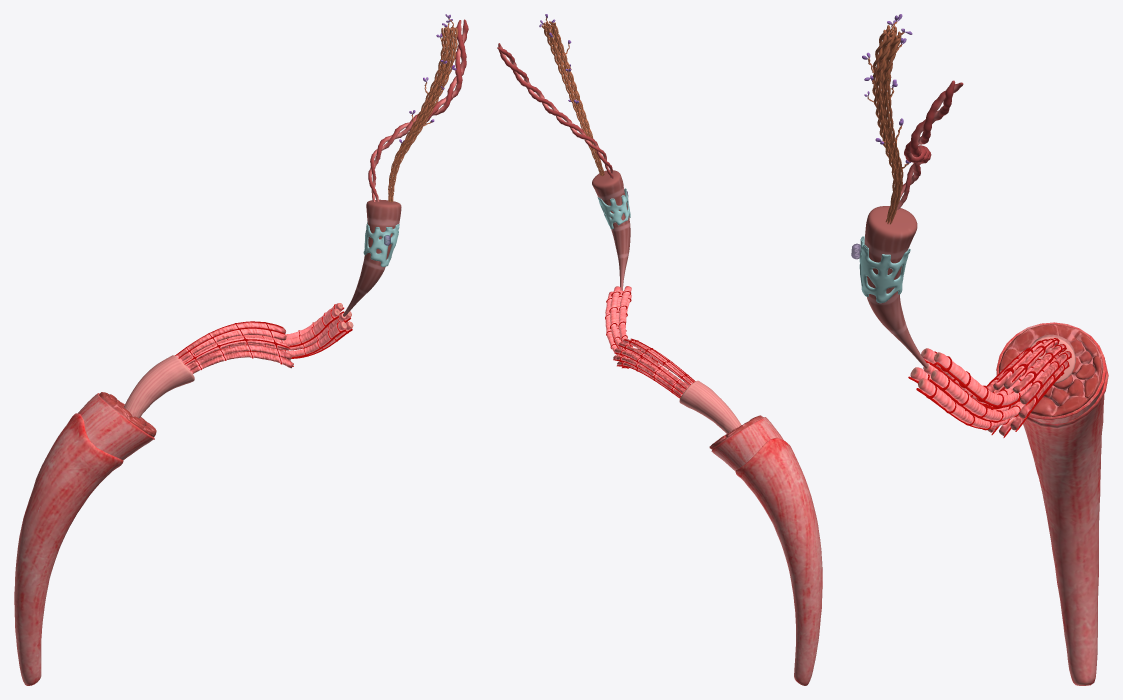
File: skeletal-muscle.glb
3 views of the same model, side by side, from view 1: azimuth 30°, elevation 25°; view 2: azimuth 150°, elevation 25°; view 3: azimuth 270°, elevation 25° (orthographic). The views are drawn at different scales.
Parts seen in each view (by area): view 1: Muscle_Muscle_M_0, Muscle_fiber_Muscle_fiber_M_0, Epimysium_Epimysium_M_0, Muscle_fibers_Muscle_fibers_M_0, Myosin_Myosin_M_0, Perimysium_Perimysium_M_0, Myofibril_Myofibril_M_0, Actin_Actin_M_0, Sarcoplasmic_reticulm_Sarcoplasmic_reticulm_M_0; view 2: Muscle_Muscle_M_0, Muscle_fiber_Muscle_fiber_M_0, Epimysium_Epimysium_M_0, Myofibril_Myofibril_M_0, Myosin_Myosin_M_0, Perimysium_Perimysium_M_0, Muscle_fibers_Muscle_fibers_M_0, Actin_Actin_M_0, Sarcoplasmic_reticulm_Sarcoplasmic_reticulm_M_0; view 3: Muscle_Muscle_M_0, Muscle_fibers_Muscle_fibers_M_0, Fascicle_Fascicle_M_0, Myofibril_Myofibril_M_0, Myosin_Myosin_M_0, Muscle_fiber_Muscle_fiber_M_0, Actin_Actin_M_0, Sarcoplasmic_reticulm_Sarcoplasmic_reticulm_M_0, Epimysium_Epimysium_M_0, Perimysium_Perimysium_M_0.
Part boxes in pixels (x1,y1,x2,y2): Muscle_Muscle_M_0: (14, 413, 123, 685); Muscle_fiber_Muscle_fiber_M_0: (175, 321, 293, 373); Epimysium_Epimysium_M_0: (37, 393, 154, 512); Muscle_fibers_Muscle_fibers_M_0: (182, 303, 353, 366); Myosin_Myosin_M_0: (388, 14, 458, 202); Perimysium_Perimysium_M_0: (124, 355, 194, 418); Myofibril_Myofibril_M_0: (343, 199, 401, 316); Actin_Actin_M_0: (368, 19, 468, 201); Sarcoplasmic_reticulm_Sarcoplasmic_reticulm_M_0: (363, 221, 399, 266); Muscle_Muscle_M_0: (735, 437, 822, 685); Muscle_fiber_Muscle_fiber_M_0: (613, 338, 695, 398); Epimysium_Epimysium_M_0: (711, 417, 815, 516); Myofibril_Myofibril_M_0: (592, 170, 630, 290); Myosin_Myosin_M_0: (539, 14, 604, 176); Perimysium_Perimysium_M_0: (679, 380, 741, 433); Muscle_fibers_Muscle_fibers_M_0: (605, 286, 688, 390); Actin_Actin_M_0: (497, 43, 614, 178); Sarcoplasmic_reticulm_Sarcoplasmic_reticulm_M_0: (597, 188, 630, 229); Muscle_Muscle_M_0: (1023, 361, 1108, 685); Muscle_fibers_Muscle_fibers_M_0: (908, 346, 1059, 430); Fascicle_Fascicle_M_0: (999, 324, 1103, 416); Myofibril_Myofibril_M_0: (864, 206, 927, 368); Myosin_Myosin_M_0: (862, 14, 912, 224); Muscle_fiber_Muscle_fiber_M_0: (986, 338, 1071, 437); Actin_Actin_M_0: (893, 80, 963, 209); Sarcoplasmic_reticulm_Sarcoplasmic_reticulm_M_0: (859, 236, 910, 303); Epimysium_Epimysium_M_0: (996, 322, 1106, 423); Perimysium_Perimysium_M_0: (1029, 334, 1075, 383).
Bounding box in the file's own units: 18.76 × 27.65 × 6.95.
11 materials, 11 textured.
